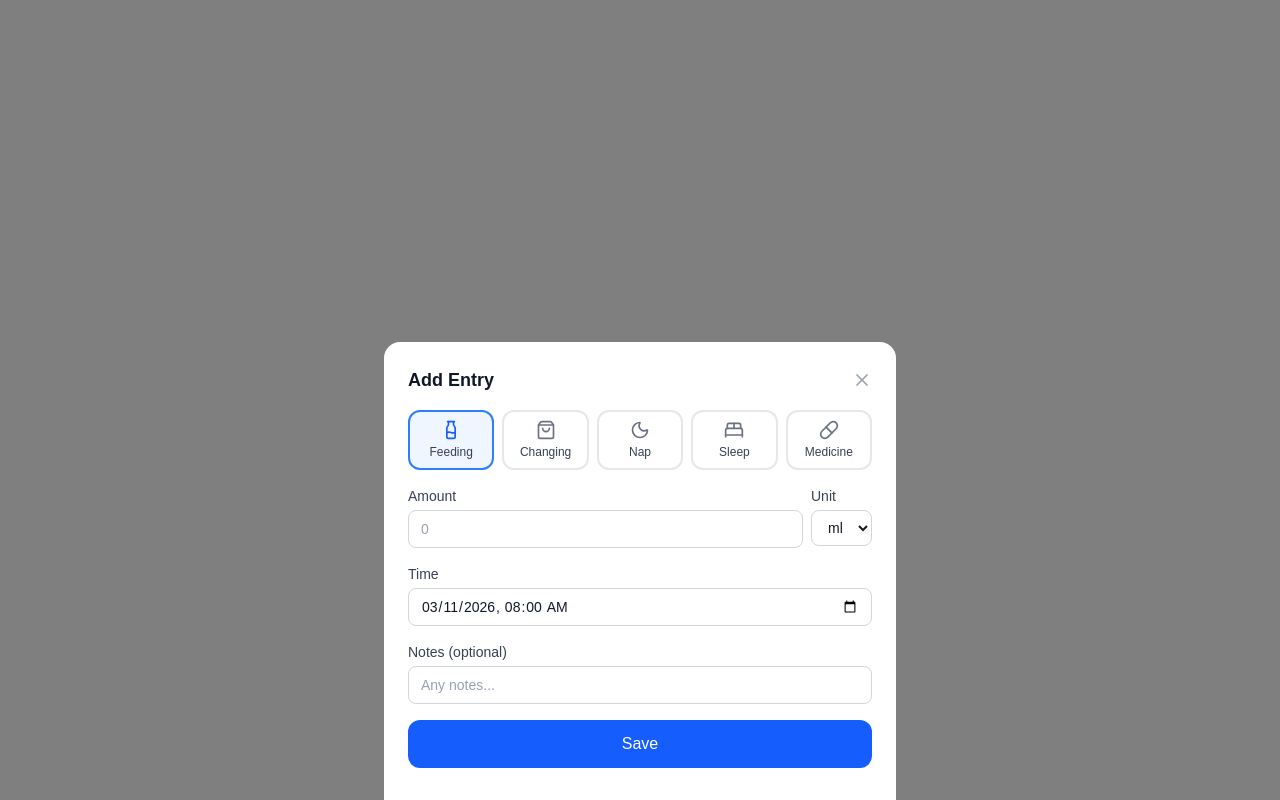
it: AddEntryModal › does not show amount fields for Changing
The width and height of the screenshot is (1280, 800).
Click the button "Changing" at (546, 440), box [502,410,589,470]
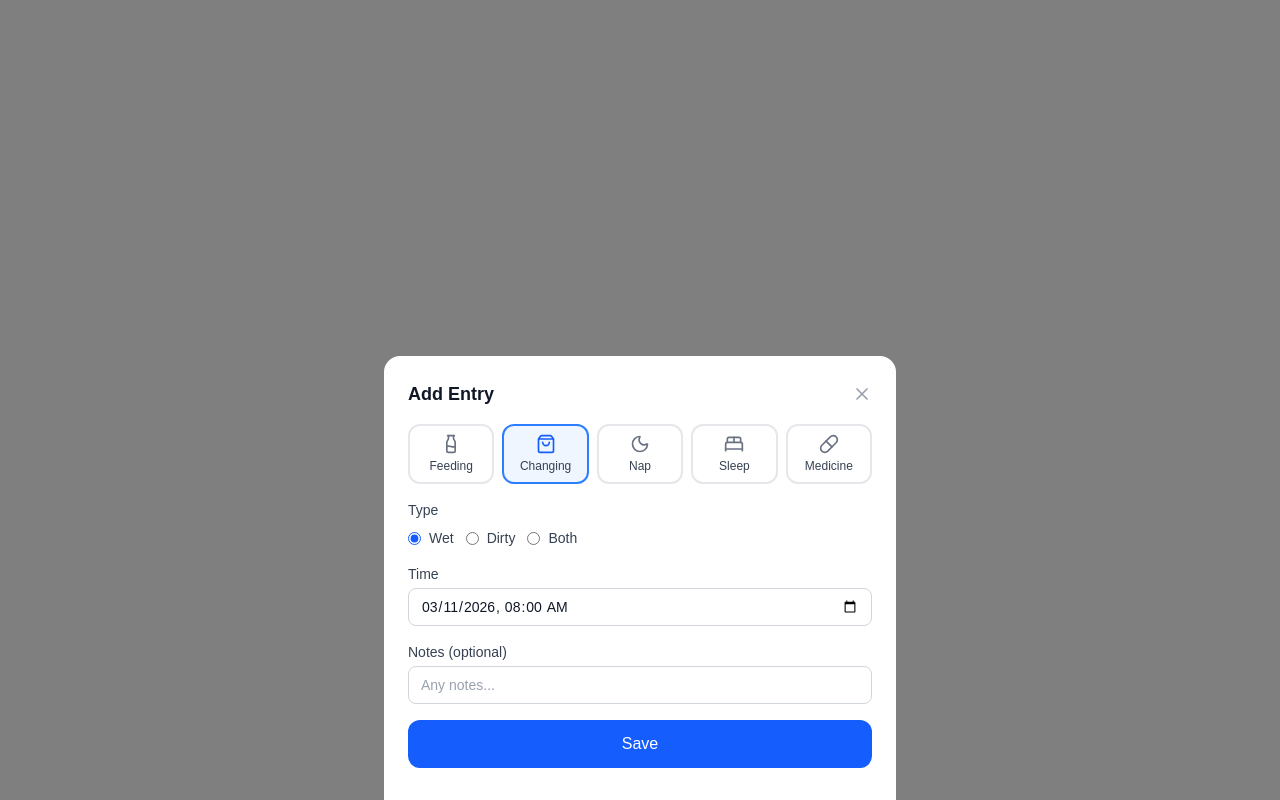
Result: the label labelled "Amount" is gone
